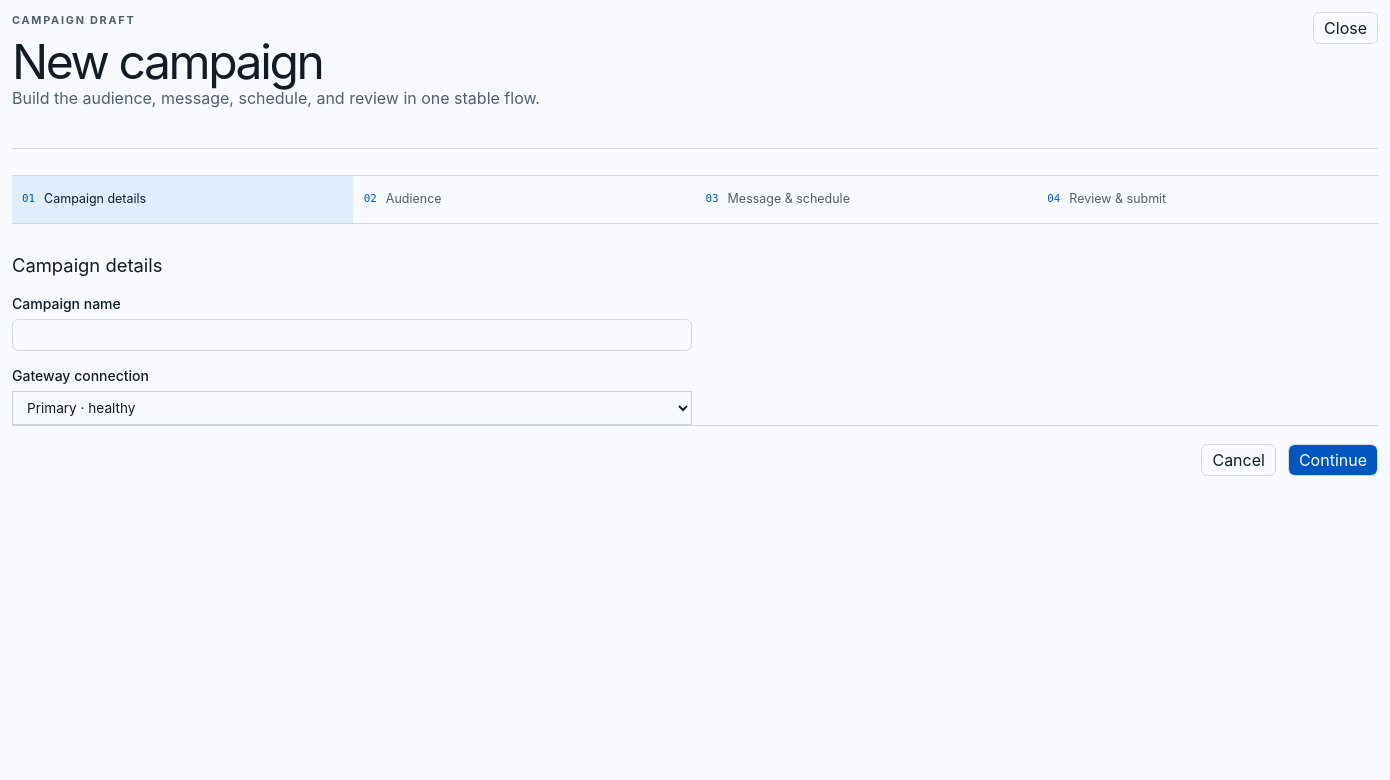
it: CampaignEditor › walks the four-step workflow and keeps audience counts visible
Expected: the heading "Campaign details" is shown, [12, 254, 162, 276]
Click the button "02 Audience" at (414, 198), box [354, 176, 695, 223]
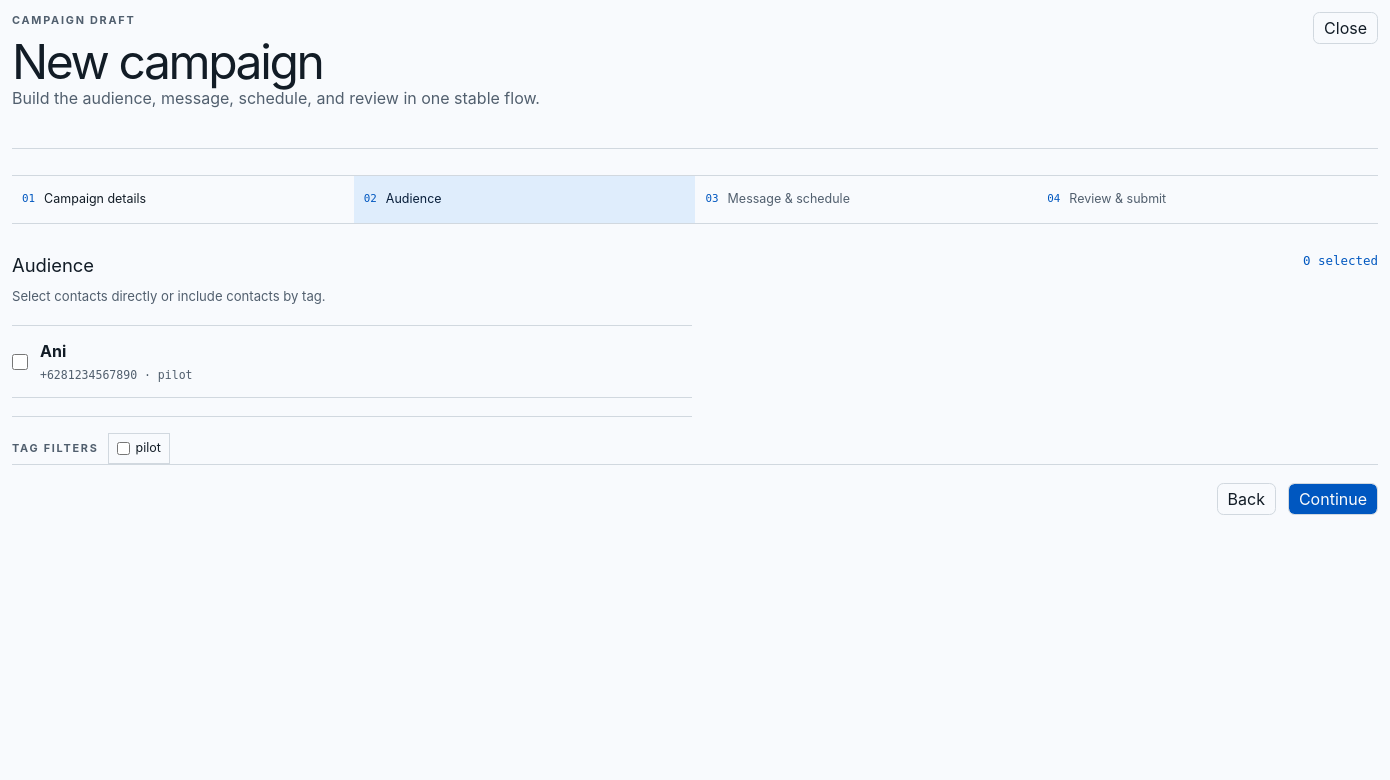
Click the checkbox labelled "Ani +6281234567890 · pilot" at (20, 362), box [12, 354, 28, 370]
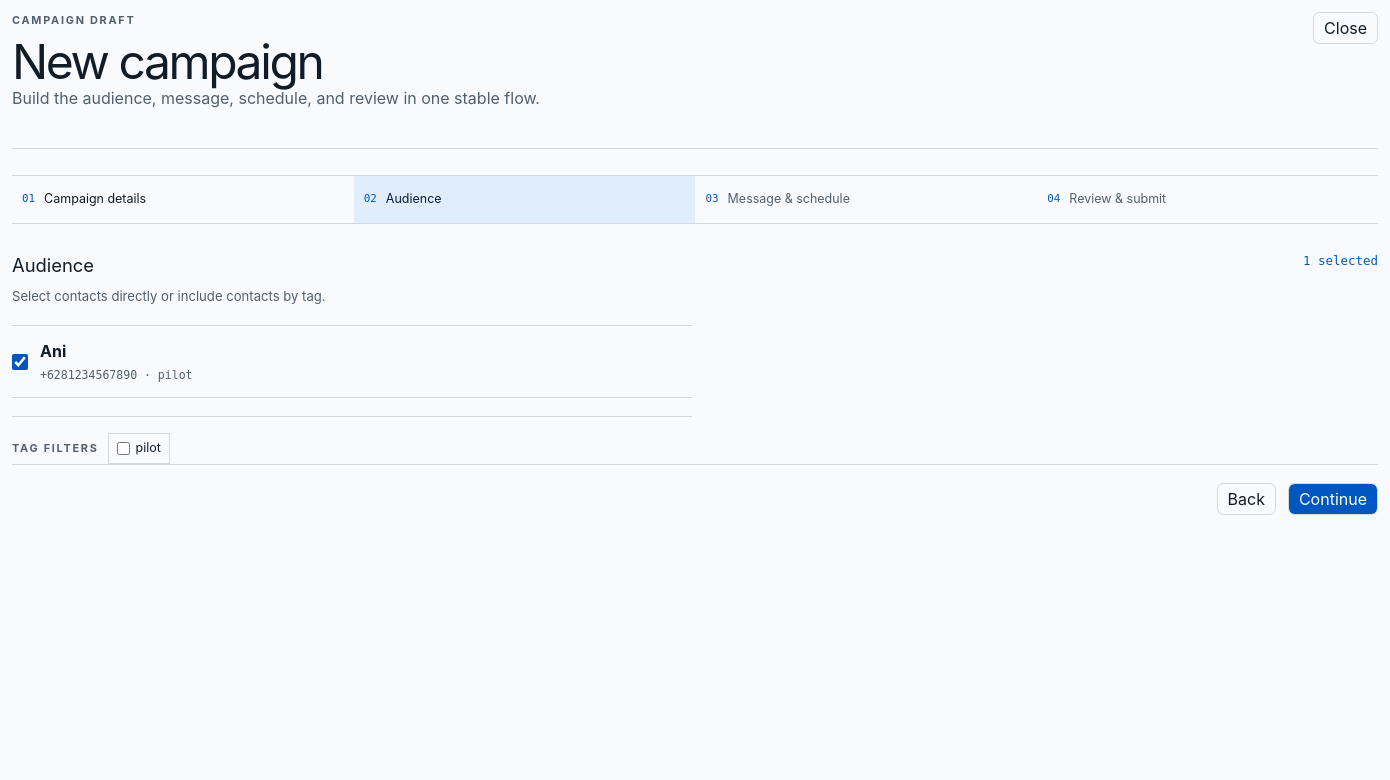
Expected: the text "1 selected" is shown, [1303, 252, 1378, 270]
Click the button "03 Message & schedule" at (789, 198), box [696, 176, 1036, 223]
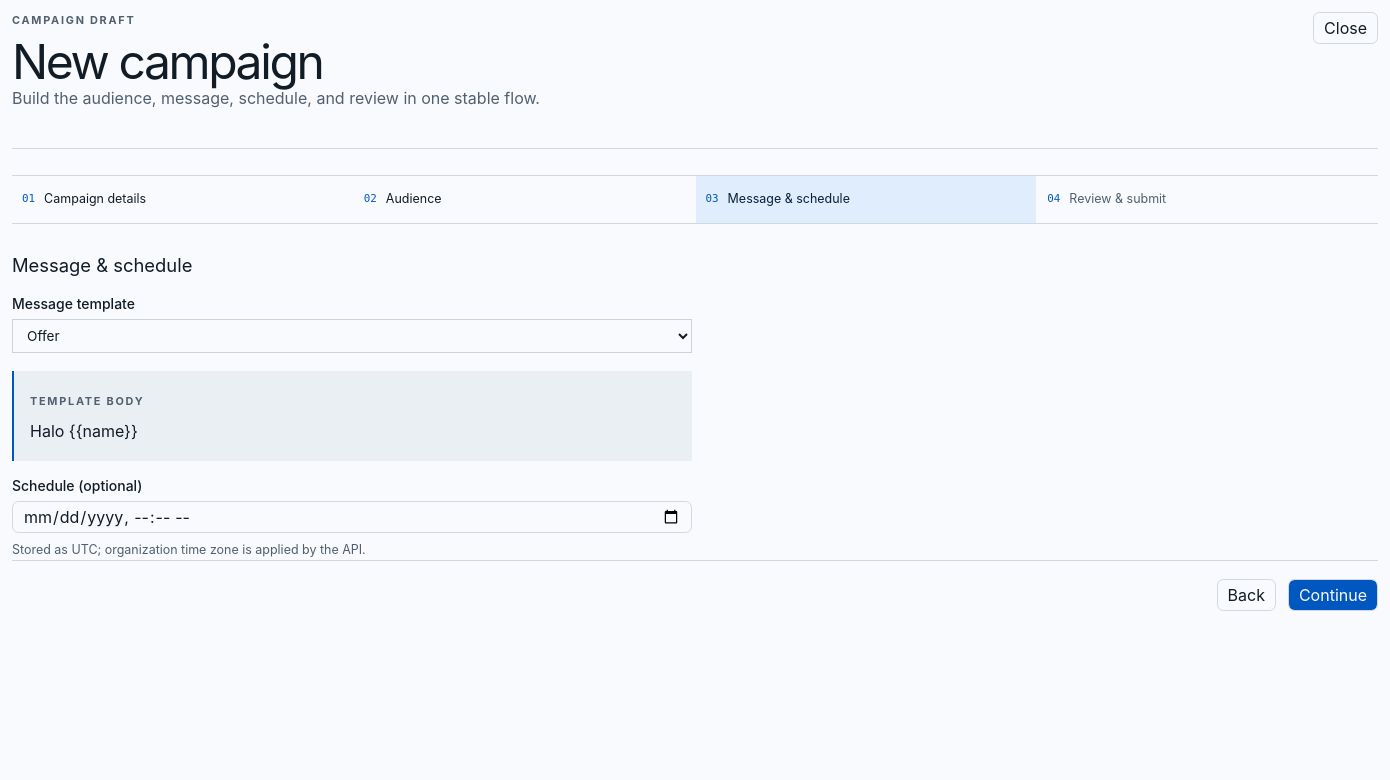
Expected: the text "Halo {{name}}" is shown, [30, 421, 138, 441]
